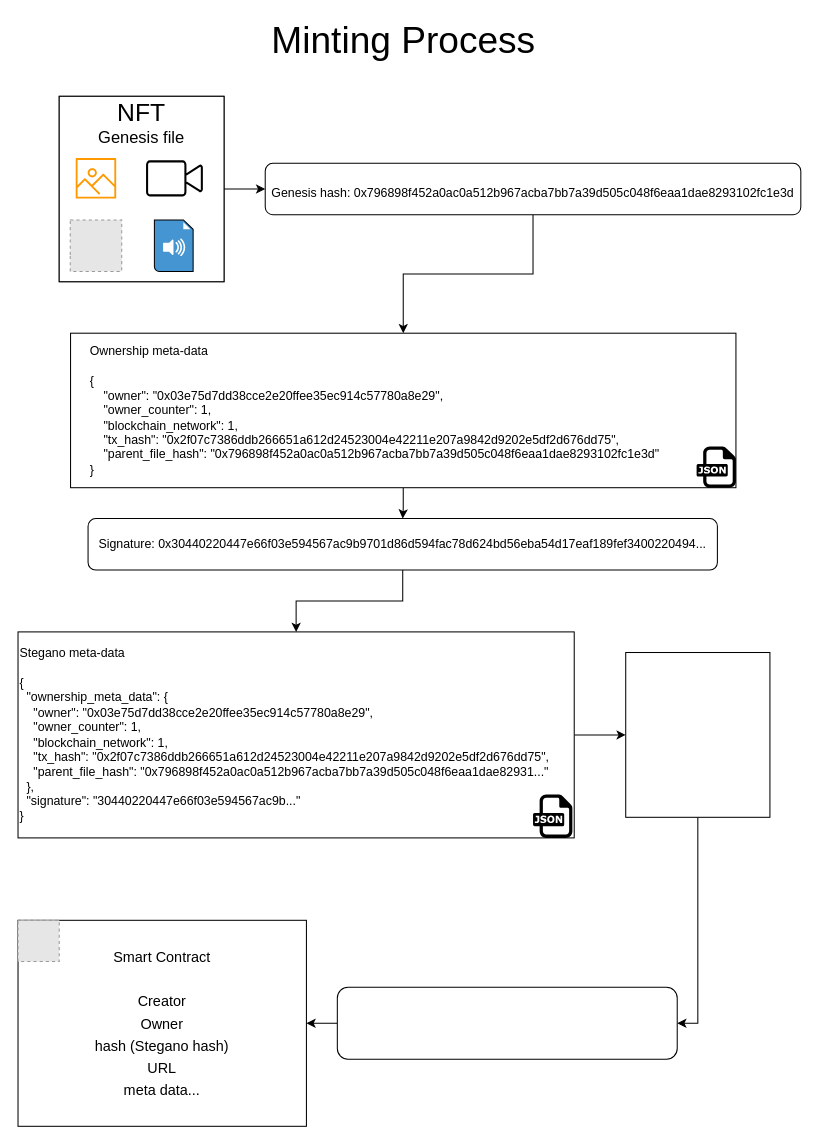
Image size: 819x1144. Some labels were removed from this diagram. Grey dashed boxes stand in for pictures. Each missing label, with the box of its shape:
Stegano file: Genesis file + Steganography: (625, 651, 770, 817)
Stegano hash: 7452a0ac0a512b967acbaac64b6... Stegano hash ≠ Genesis hash: (336, 986, 677, 1059)
